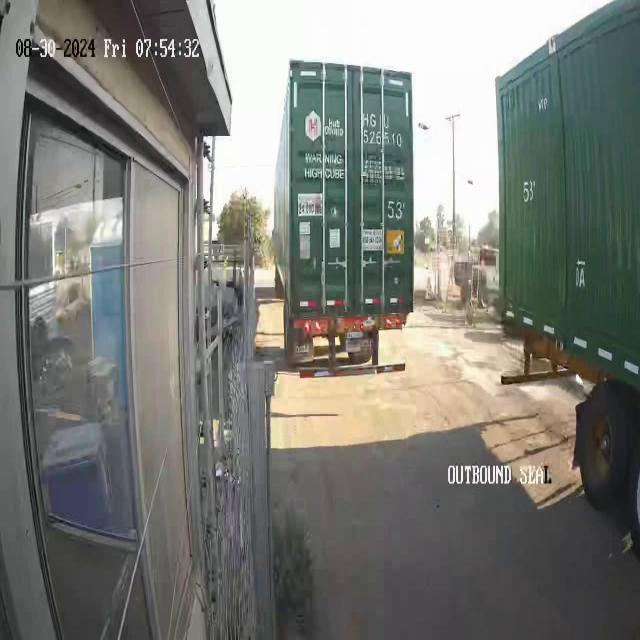TRUCK_IN: (492, 0, 640, 561)
TRUCK_OUT: (269, 65, 421, 378)
